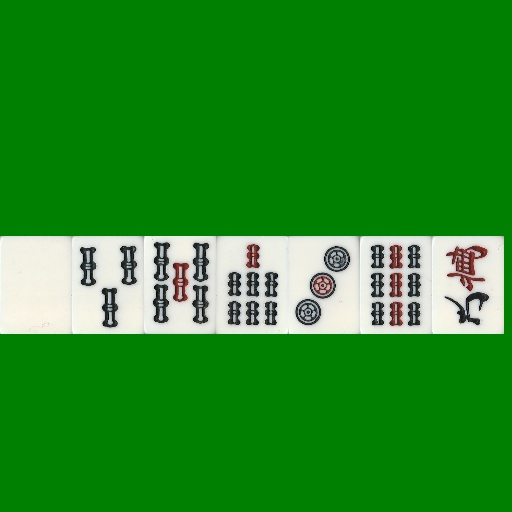3p: (288, 236, 360, 334)
3s: (72, 236, 144, 334)
5s: (144, 236, 216, 334)
7s: (216, 236, 288, 334)
9m: (432, 236, 504, 334)
9s: (360, 236, 432, 334)
white: (0, 236, 72, 334)
